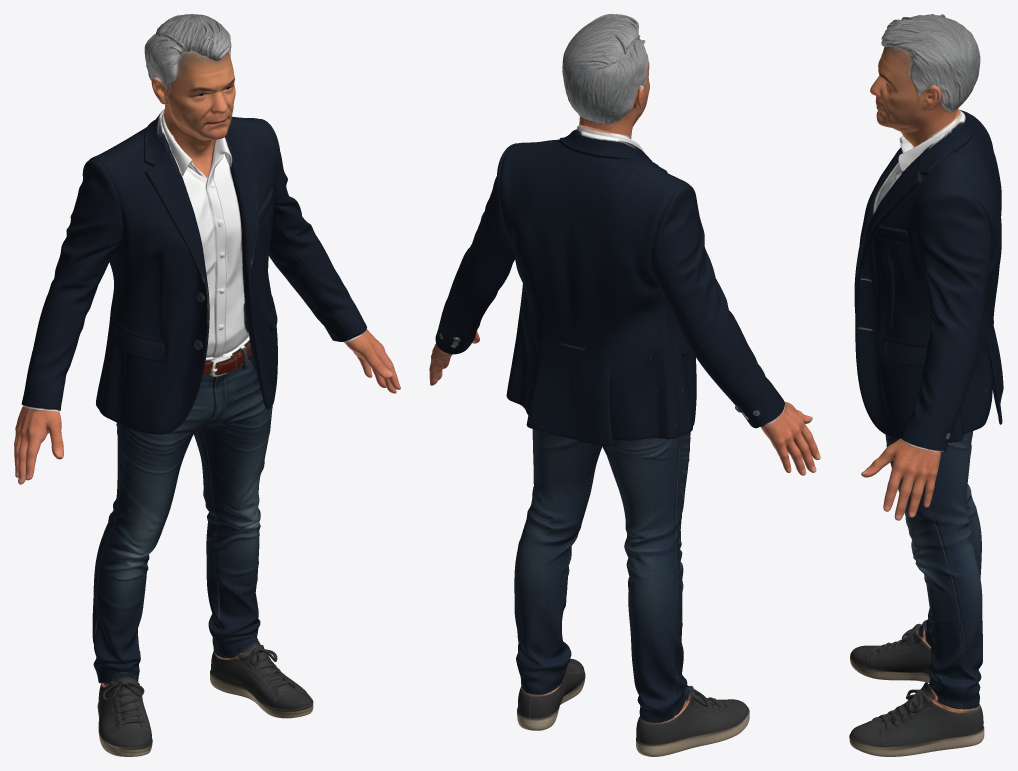
The model's file is employee-03.glb.
3 views of the same model, side by side, from view 1: azimuth 30°, elevation 25°; view 2: azimuth 150°, elevation 25°; view 3: azimuth 270°, elevation 25° (orthographic).
Size of the model in its own units: 1.08 by 1.9 by 0.3817.
1 material, 1 textured.
